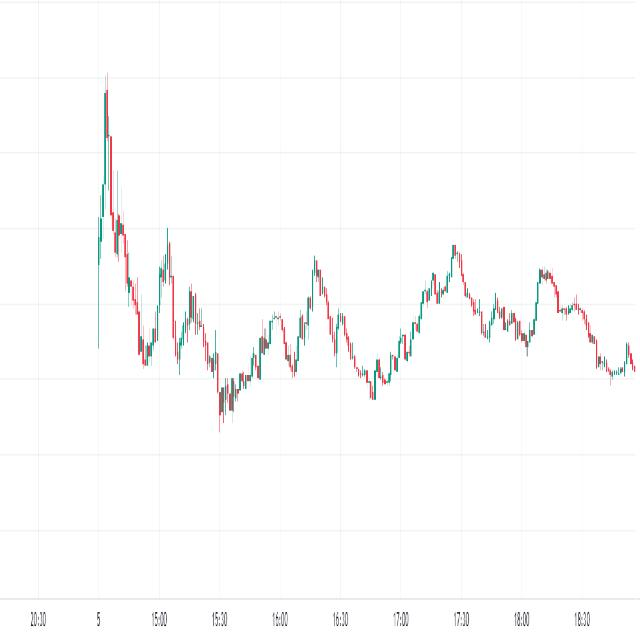Rounding-Bottom: (338, 300, 427, 413)
